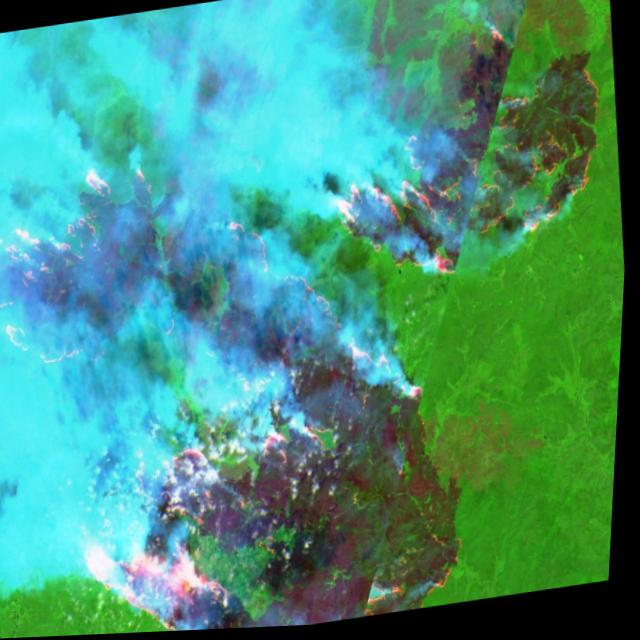fire: (0, 3, 639, 640)
